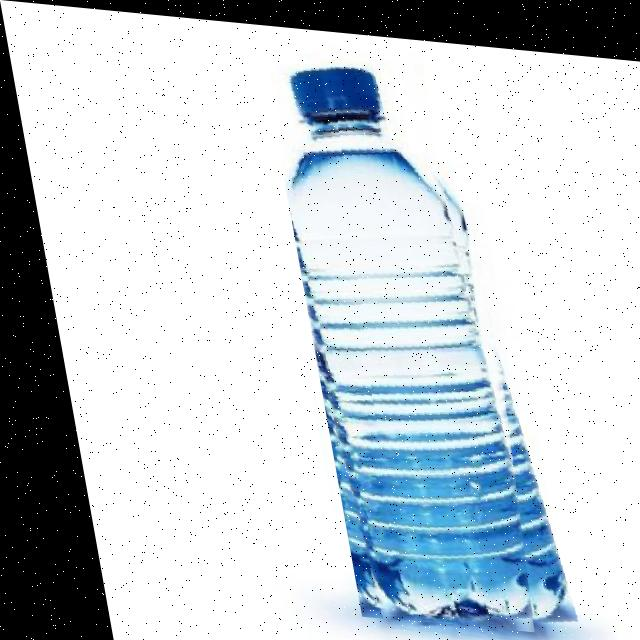plasticbottle: (261, 45, 542, 627)
